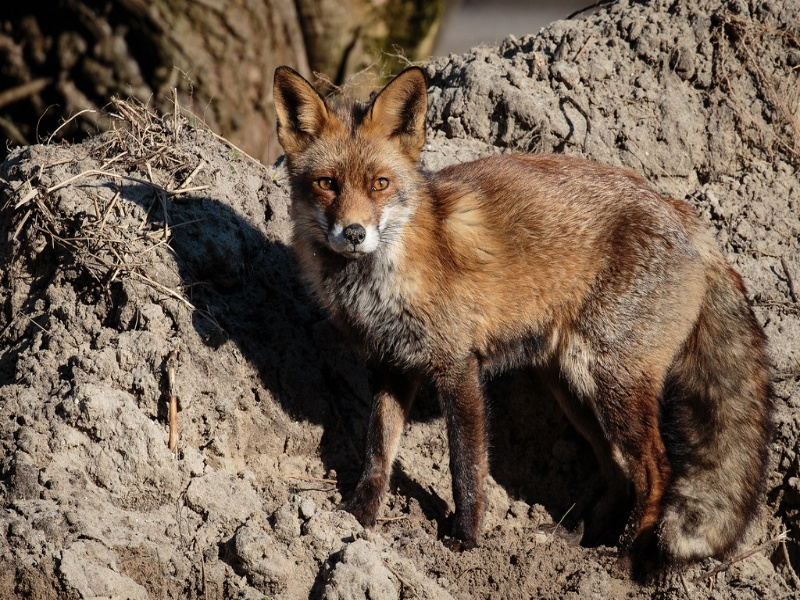fox: (268, 58, 777, 564)
